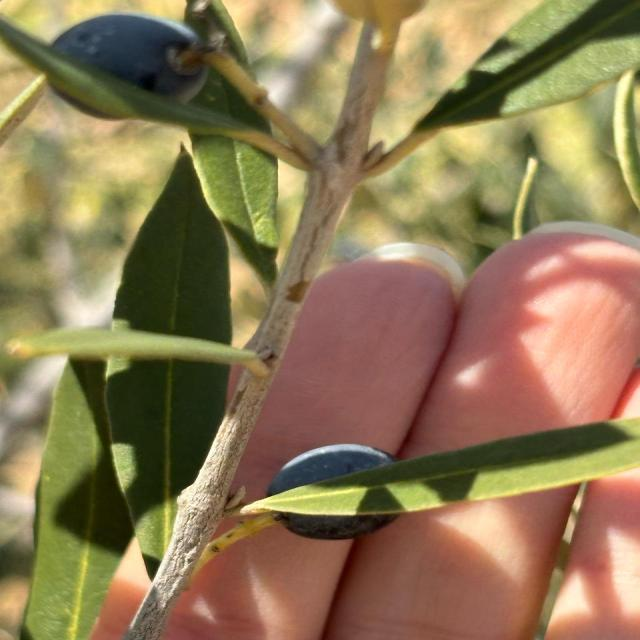Healthy: (243, 417, 639, 516)
